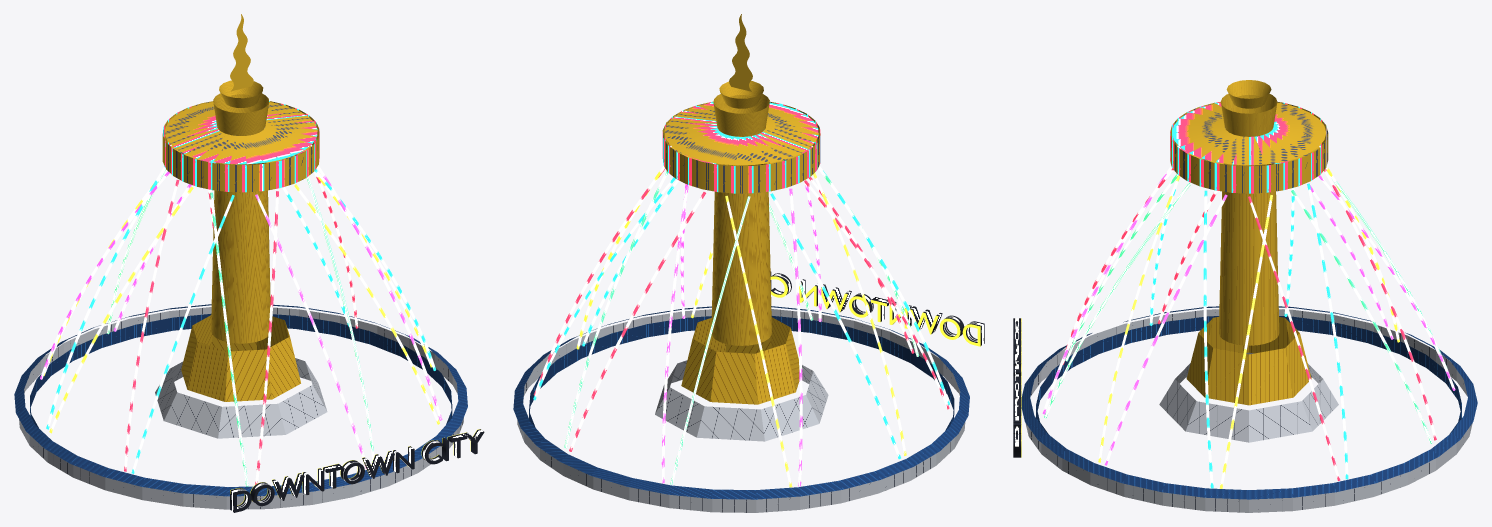
Rendered from Downtown_City_Tugu_Keris_NoJet.fbx.
3 renders of one model, left to right at view 1: azimuth 30°, elevation 25°; view 2: azimuth 150°, elevation 25°; view 3: azimuth 270°, elevation 25°, orthographic.
Parts seen in each view (by area): view 1: Downtown_City_Tugu_Keris; view 2: Downtown_City_Tugu_Keris; view 3: Downtown_City_Tugu_Keris.
Part boxes in pixels (x1,y1,x2,y2): Downtown_City_Tugu_Keris: (14,14,484,512); Downtown_City_Tugu_Keris: (513,14,984,512); Downtown_City_Tugu_Keris: (1013,80,1477,512).
Bounding box in the file's own units: 23.4 × 22.8 × 23.77.
Materials: 1 (1 with a texture image).
